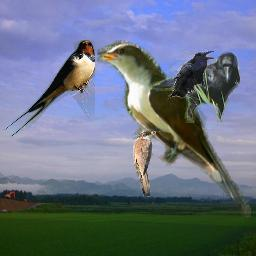Crow: (150, 52, 240, 123), (167, 51, 214, 100)
Cuckoo: (97, 39, 251, 217), (133, 131, 156, 197)
Swallow: (4, 40, 95, 137)
